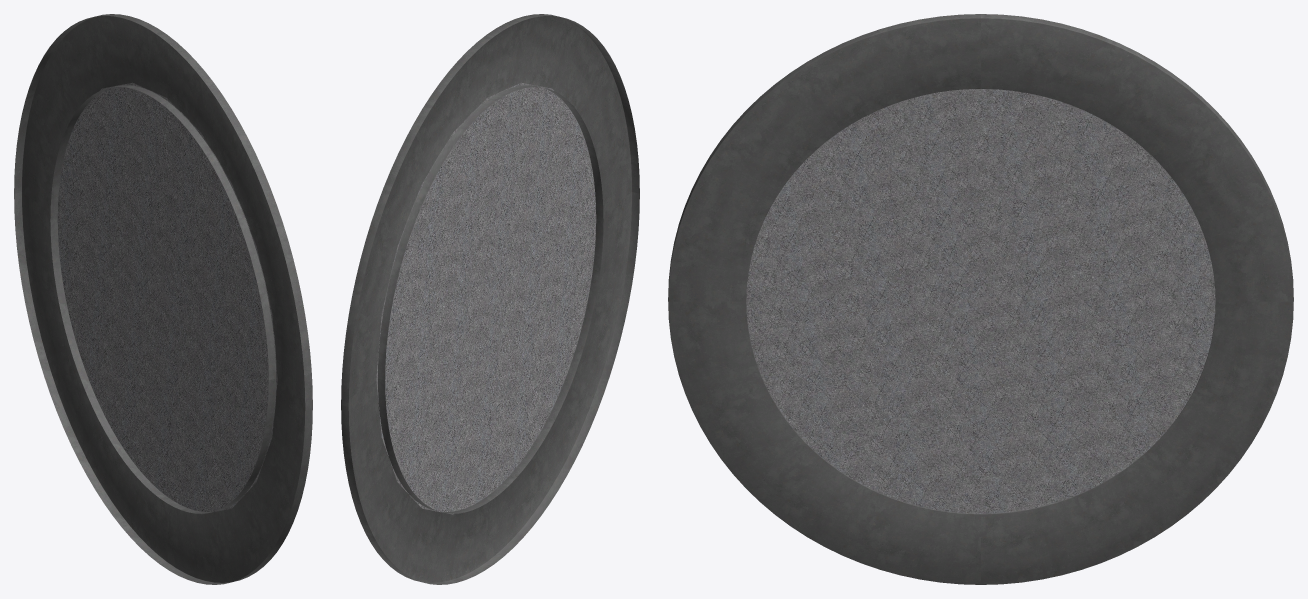
Rendered from cP_Pathway04_12.dae.
The picture shows the model from 3 angles, left to right: view 1: azimuth 30°, elevation 25°; view 2: azimuth 150°, elevation 25°; view 3: azimuth 270°, elevation 25°; orthographic projection. The views are drawn at different scales.
Visible parts, largest first — view 1: cP_Pathway04_12.001; view 2: cP_Pathway04_12.001; view 3: cP_Pathway04_12.001.
Boxes of the visible parts, x1,y1,x2,y2 form: cP_Pathway04_12.001: [14, 14, 312, 584]; cP_Pathway04_12.001: [341, 14, 639, 584]; cP_Pathway04_12.001: [668, 14, 1293, 584].
Bounding box in the file's own units: 0.5 × 32.03 × 32.03.
